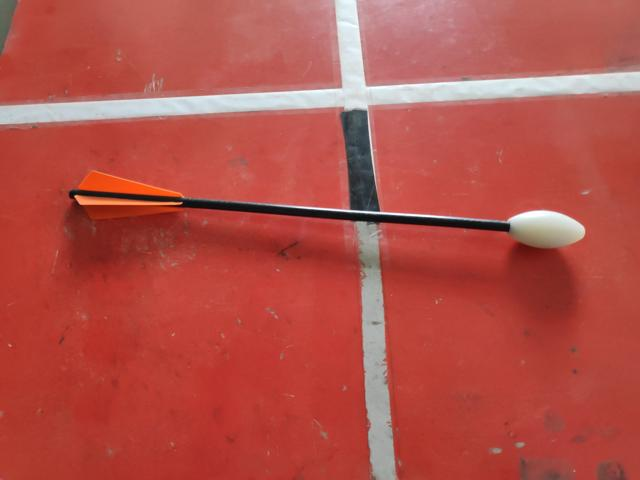Head: (505, 205, 589, 252)
Tail: (64, 167, 190, 222)
